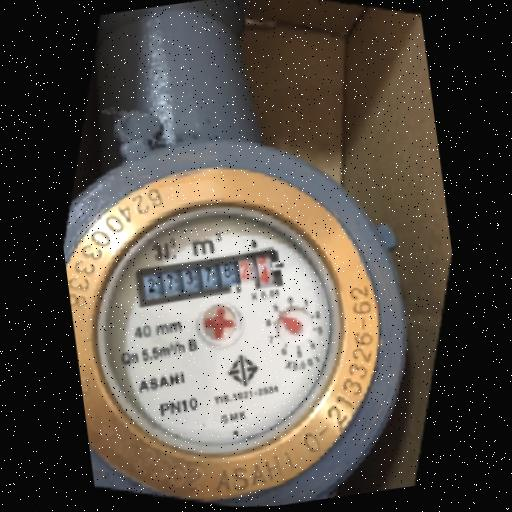2: (143, 273, 160, 299), (239, 259, 254, 283)
3: (182, 268, 198, 293)
4: (256, 254, 273, 285)
7: (163, 271, 180, 296), (200, 264, 217, 289)
8: (220, 263, 237, 287)
border_water_meter_number: (135, 246, 285, 309)
